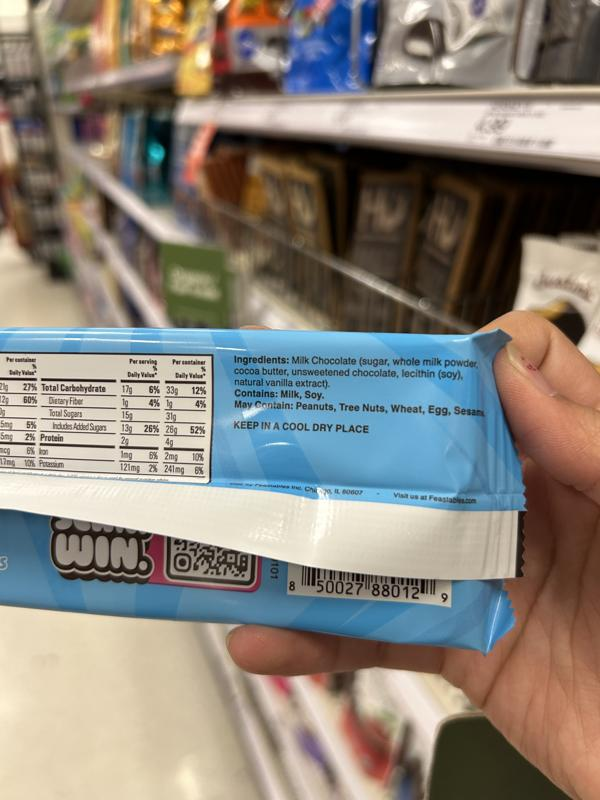ingredients: (230, 353, 480, 389)
